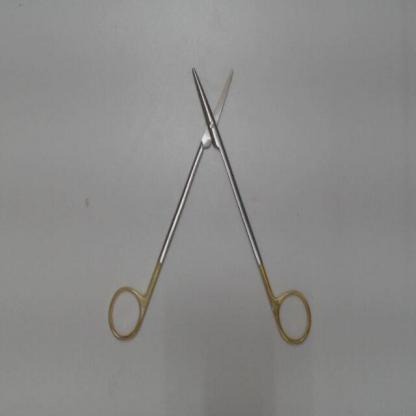7 Metzenbaum Scissors: (102, 59, 318, 354)
